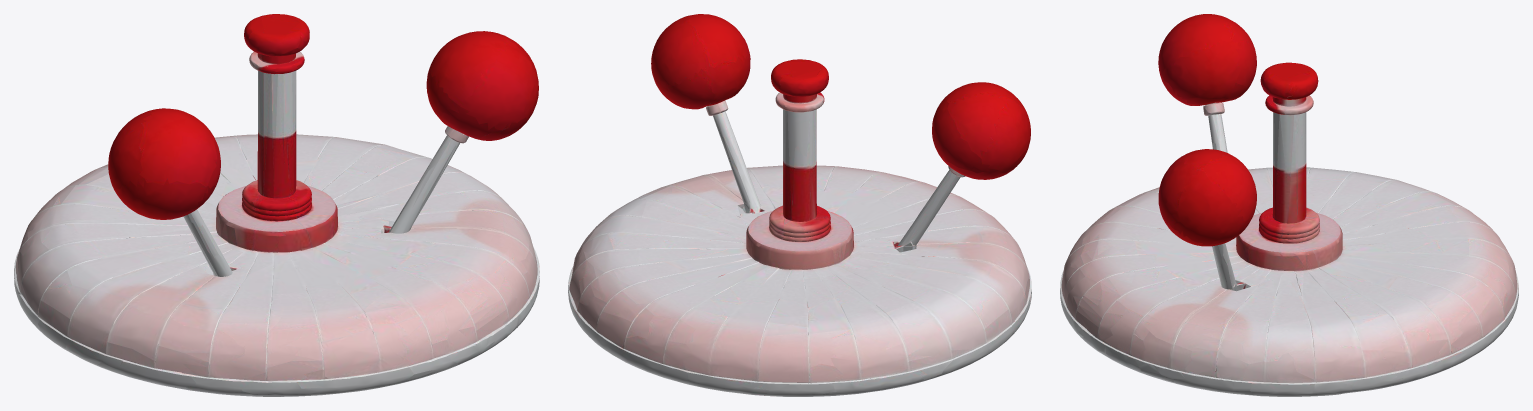
Rendered from rotatingSweeper.3e9b9b85.glb.
The picture shows the model from 3 angles, left to right: view 1: azimuth 30°, elevation 25°; view 2: azimuth 150°, elevation 25°; view 3: azimuth 270°, elevation 25°; orthographic projection. The views are drawn at different scales.
Visible parts, largest first — view 1: output_unwrapped; view 2: output_unwrapped; view 3: output_unwrapped.
Boxes of the visible parts, left/top/right/bottom form: output_unwrapped: left=14, top=14, right=539, bottom=396; output_unwrapped: left=568, top=14, right=1031, bottom=396; output_unwrapped: left=1060, top=14, right=1518, bottom=396.
Bounding box in the file's own units: 1.9 × 1.09 × 1.9.
1 material, 1 textured.
